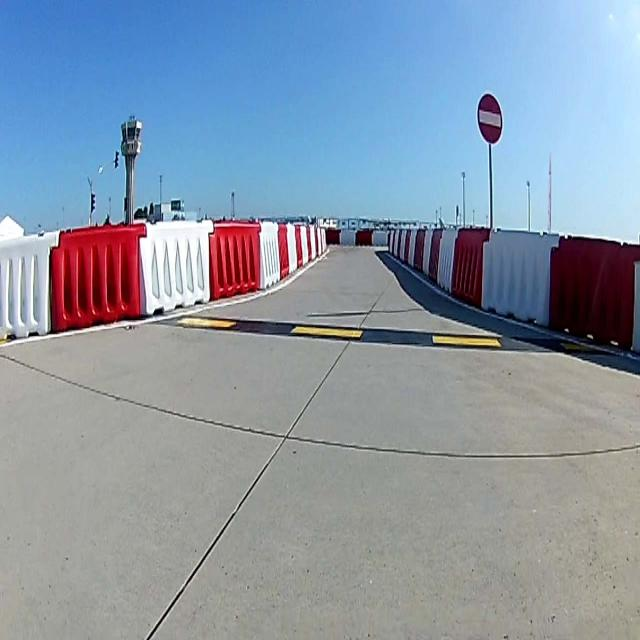girisyok: (474, 90, 505, 145)
